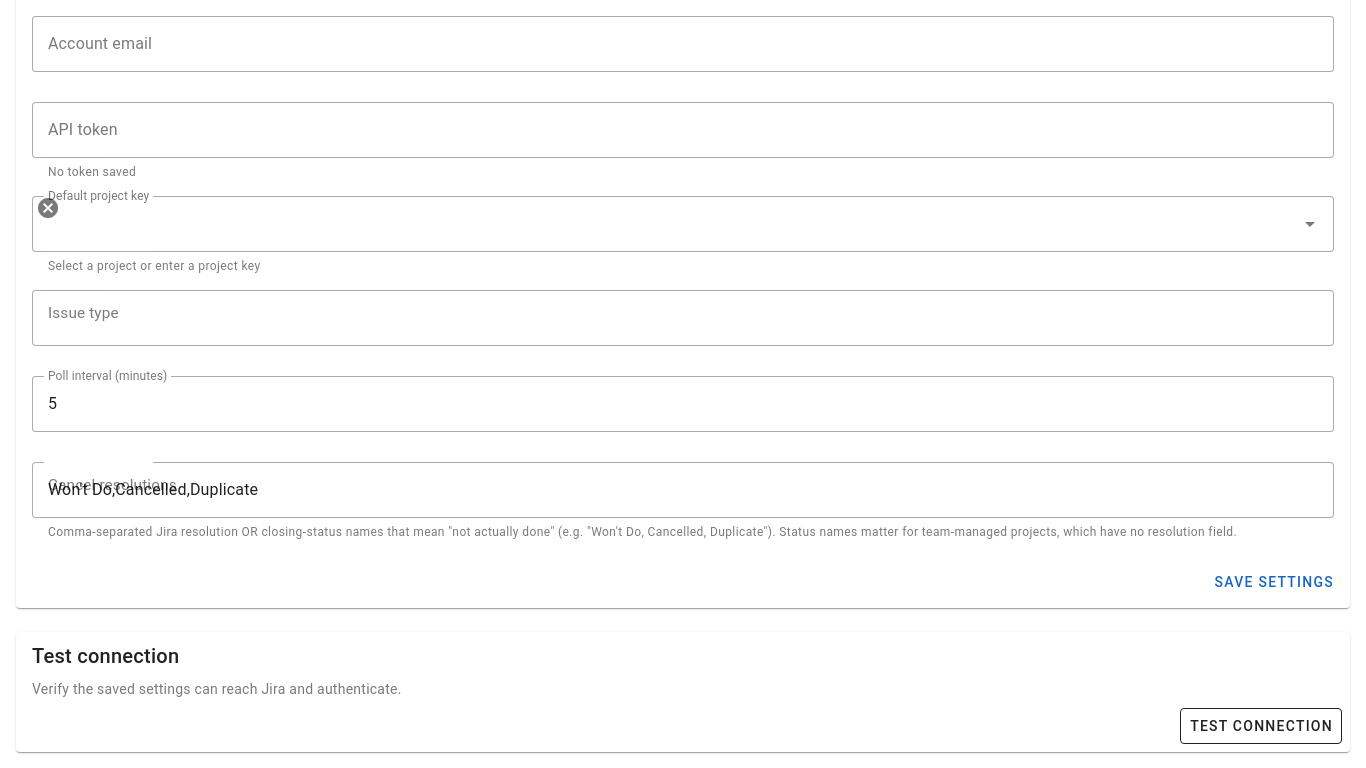
JiraSettingsPage › other field validation › requires the issue type unconditionally (even when disabled)
The width and height of the screenshot is (1366, 768).
(page scrolled)
Click the button "Save settings".
click(1274, 582)  # box [1205, 564, 1342, 600]
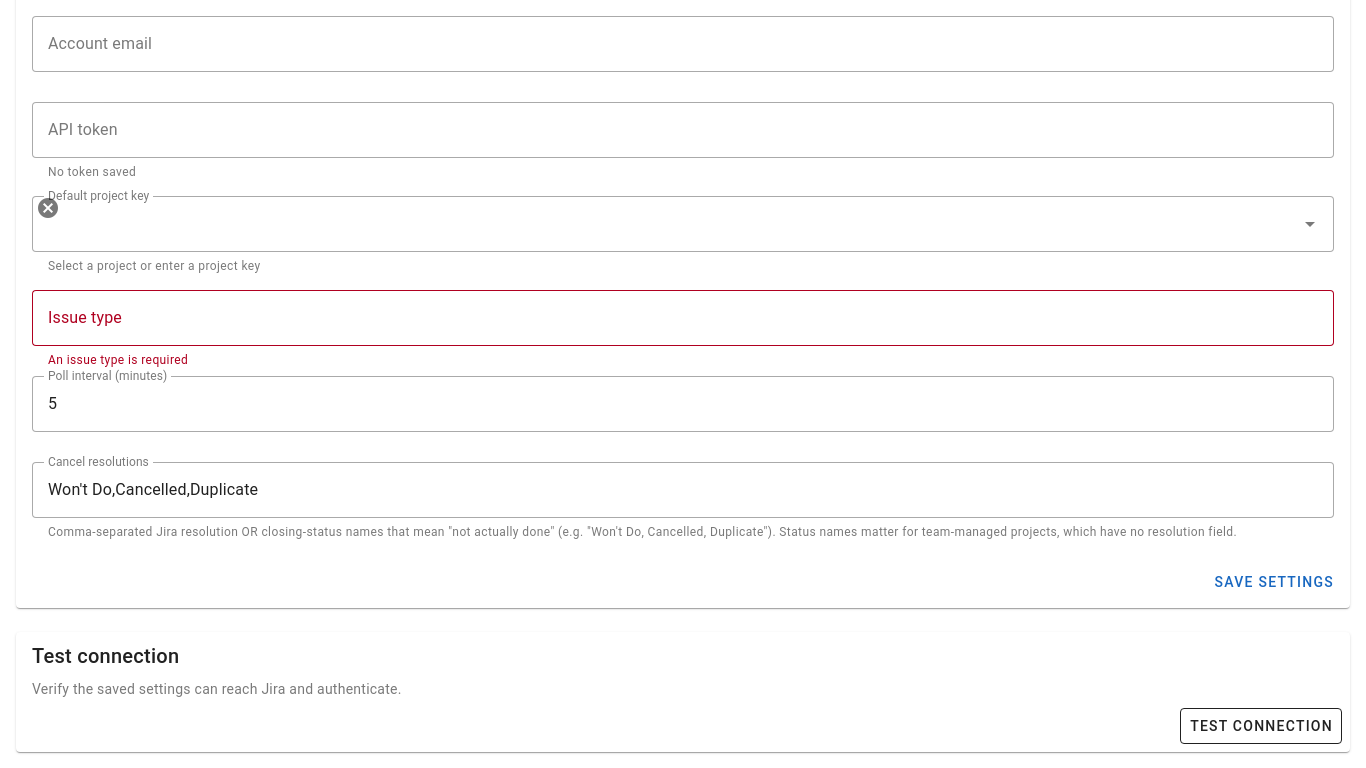
expect the text "An issue type is required" is shown: met, box [48, 353, 188, 367]
